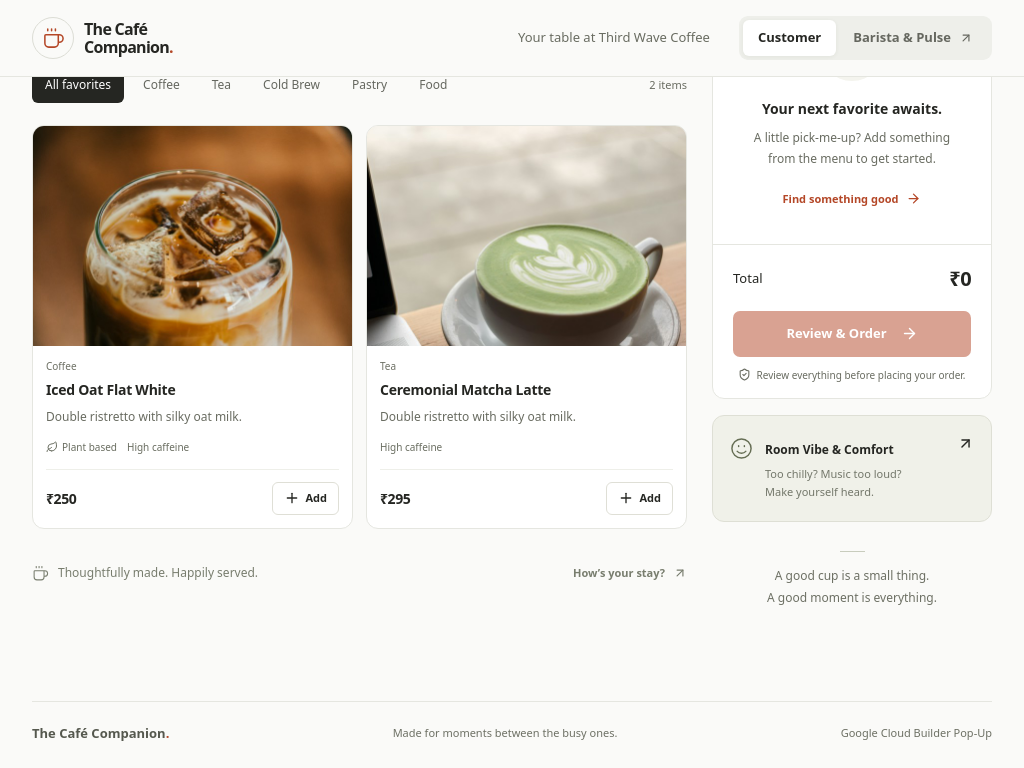
Test: Guest ordering › preserves the cart when order submission fails
(page scrolled)
Expected: the button "Iced Oat Flat White" is shown, [46,380,339,400]
Click the button "Add" in the row of "₹250".
click(306, 498)  # box [272,482,339,515]
(page scrolled)
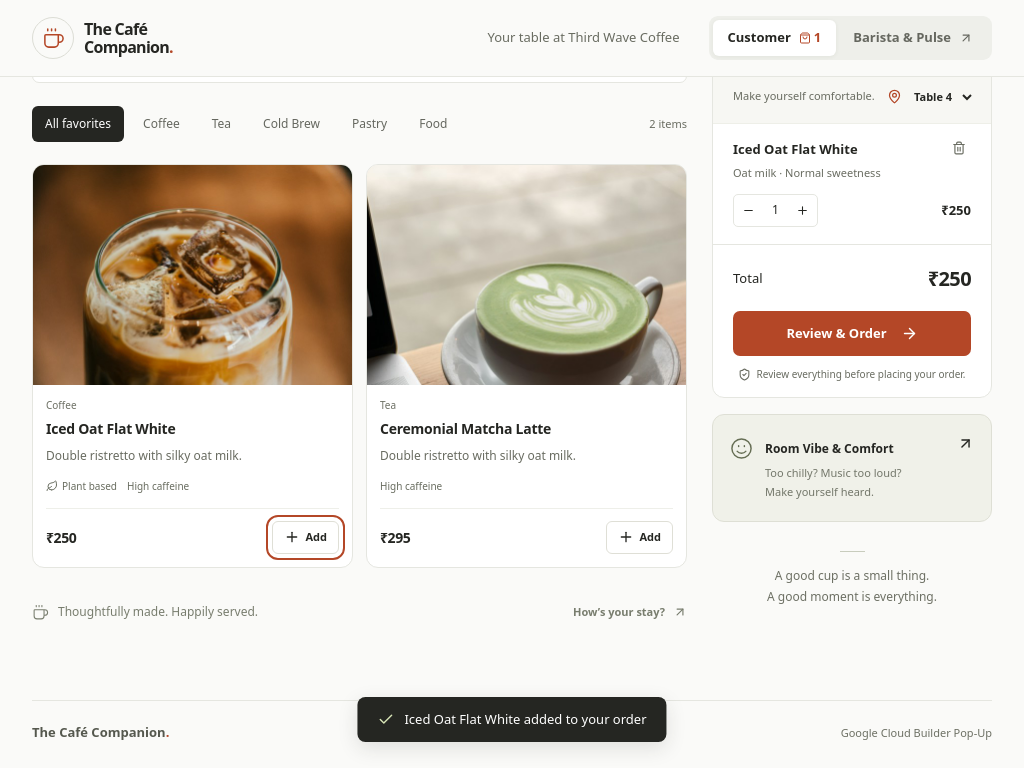
Click the button "Review & Order".
click(852, 333)  # box [733,310,971,356]
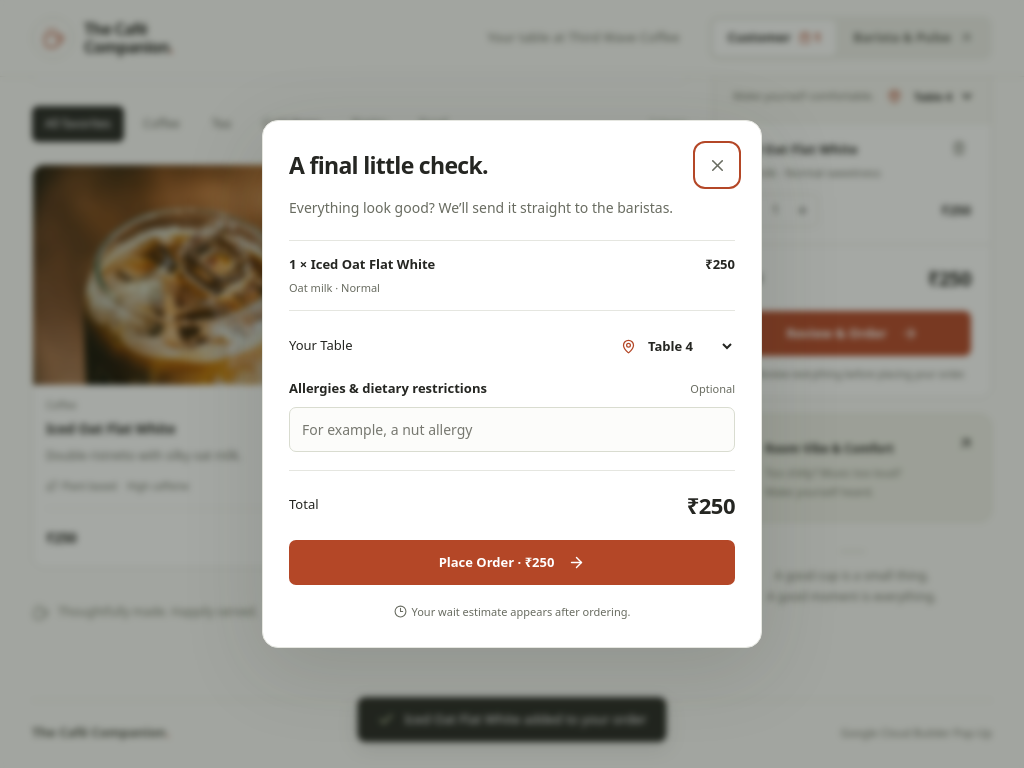
Click the button "Place Order · ₹250".
click(512, 562)  # box [289,540,735,585]
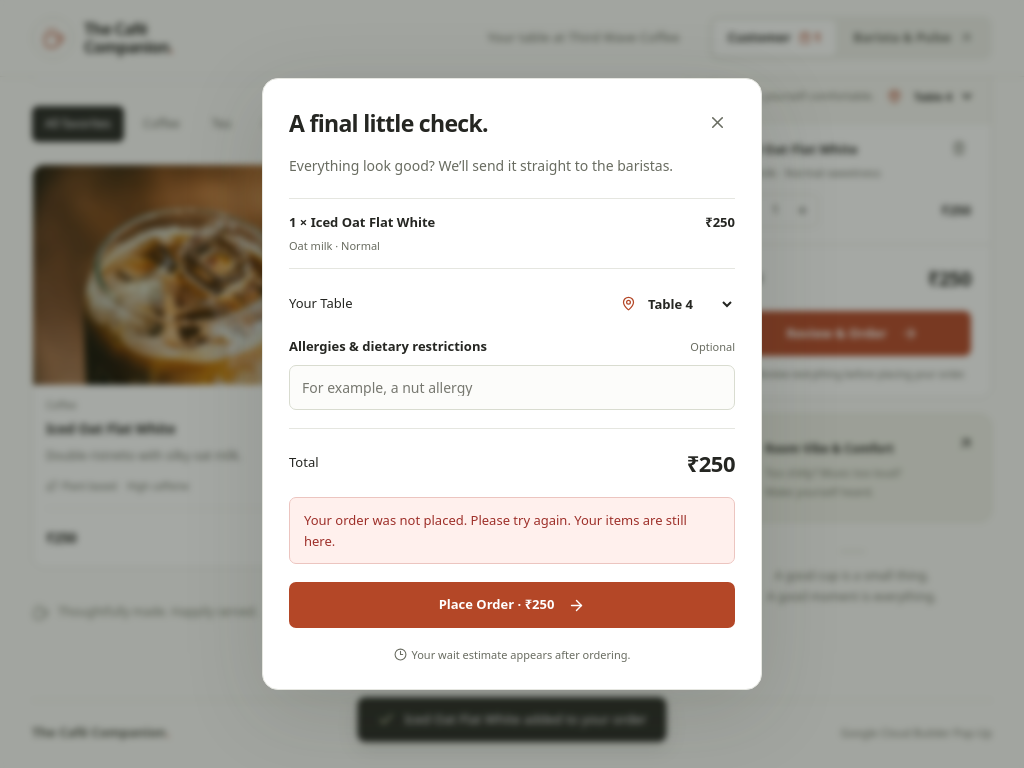
Now the text "1 item" is shown, box [938,32,971,49]
Now the message "Your order was not placed. Please try again. Your items are still here." is shown, box [289,497,735,564]
